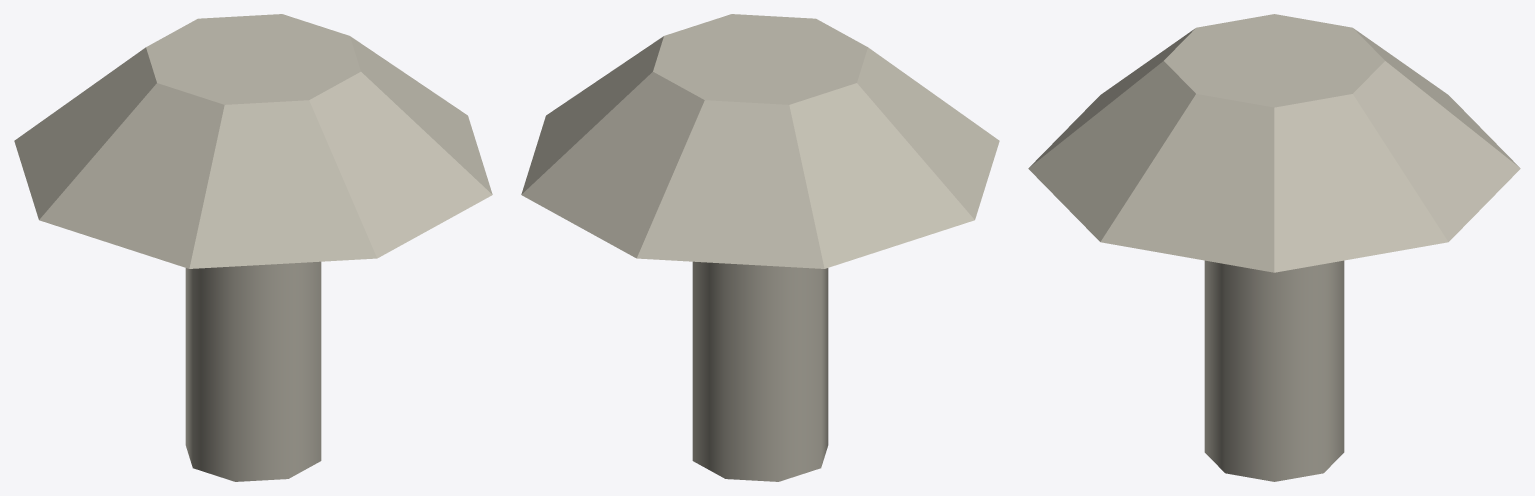
File: Mushroom.FBX
The picture shows the model from 3 angles, left to right: view 1: azimuth 30°, elevation 25°; view 2: azimuth 150°, elevation 25°; view 3: azimuth 270°, elevation 25°; orthographic projection.
Parts seen in each view (by area): view 1: Mushroom; view 2: Mushroom; view 3: Mushroom.
Part boxes in pixels (box(x1,y1,x2,y2)): Mushroom: box(14, 14, 492, 481); Mushroom: box(521, 14, 999, 481); Mushroom: box(1028, 14, 1520, 481).
Bounding box in the file's own units: 21.43 × 18.81 × 21.43.
